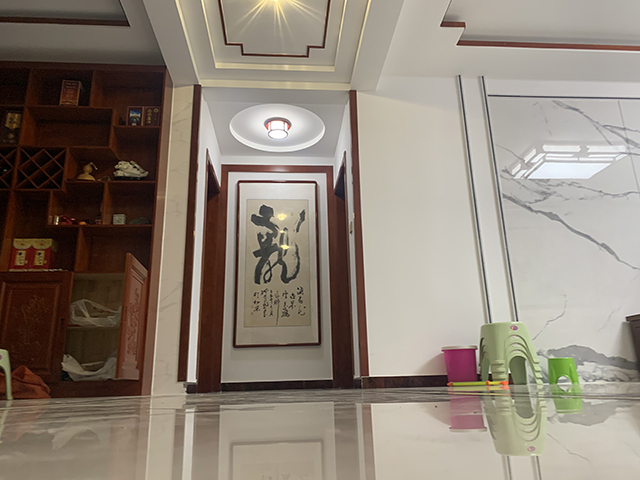cabinet: (1, 257, 173, 399)
stool: (478, 321, 543, 385), (547, 357, 579, 385), (1, 348, 13, 402)
trashcan: (442, 344, 478, 382)
